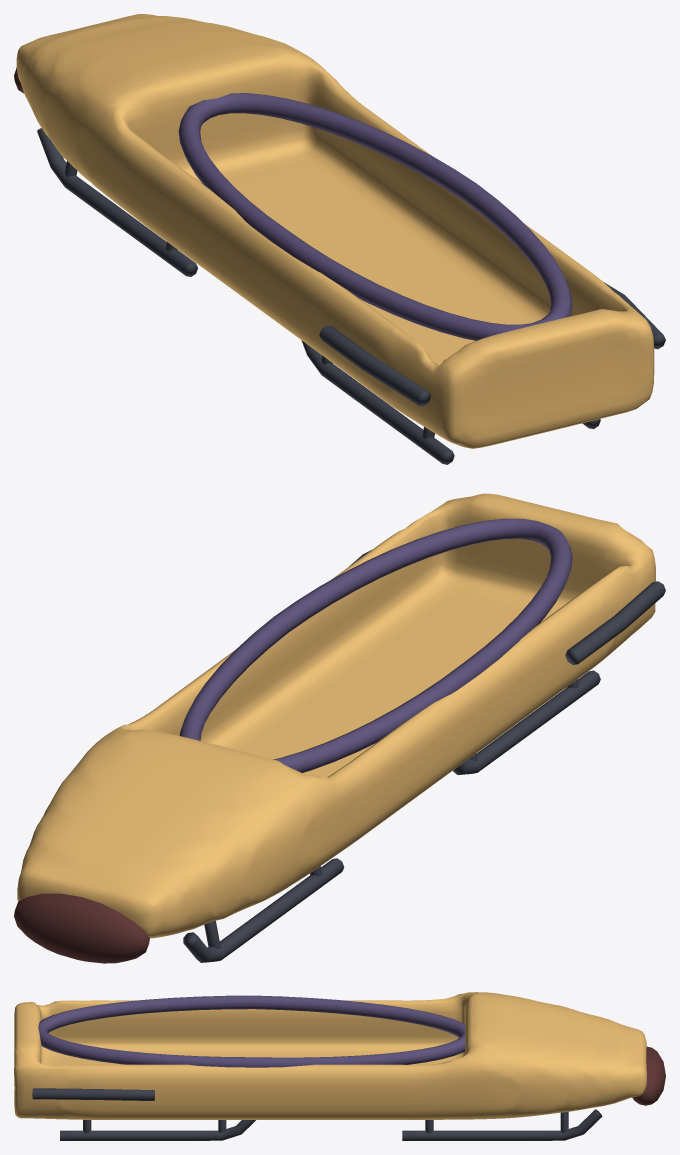
The model's file is BobsledSled.obj.
3 renders of one model, top to bottom at view 1: azimuth 30°, elevation 25°; view 2: azimuth 150°, elevation 25°; view 3: azimuth 270°, elevation 25°, orthographic. The views are drawn at different scales.
Parts seen in each view (by area): view 1: Body, Rim, Runner; view 2: Body, Rim, Runner, Nose; view 3: Body, Rim, Runner, Nose.
Boxes of the visible parts, x1,y1,x2,y2 form: Body: [16, 14, 654, 448]; Rim: [178, 93, 572, 340]; Runner: [37, 128, 665, 464]; Body: [17, 493, 655, 938]; Rim: [179, 518, 572, 772]; Runner: [183, 550, 665, 962]; Nose: [14, 893, 149, 963]; Body: [14, 992, 646, 1119]; Rim: [38, 995, 465, 1067]; Runner: [32, 1088, 602, 1140]; Nose: [632, 1046, 665, 1105].
Size of the model in its own units: 4.56 by 2.45 by 14.47.
